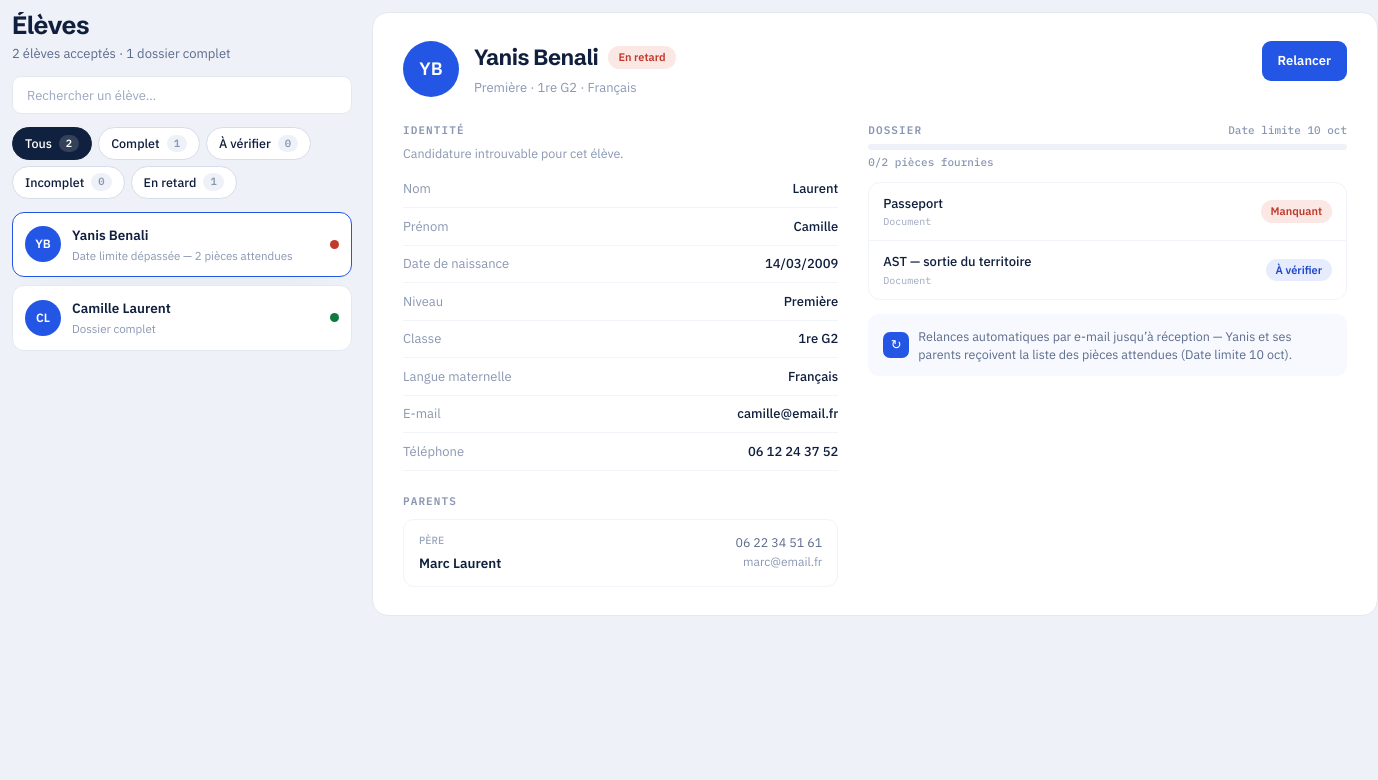
Test: StudentsView › cooldown result shows the skipped message
What coordinates should you click on to do the following:
click the button "Relancer"
I would click on:
 (1304, 61)
Its box is [1262,41,1347,80].
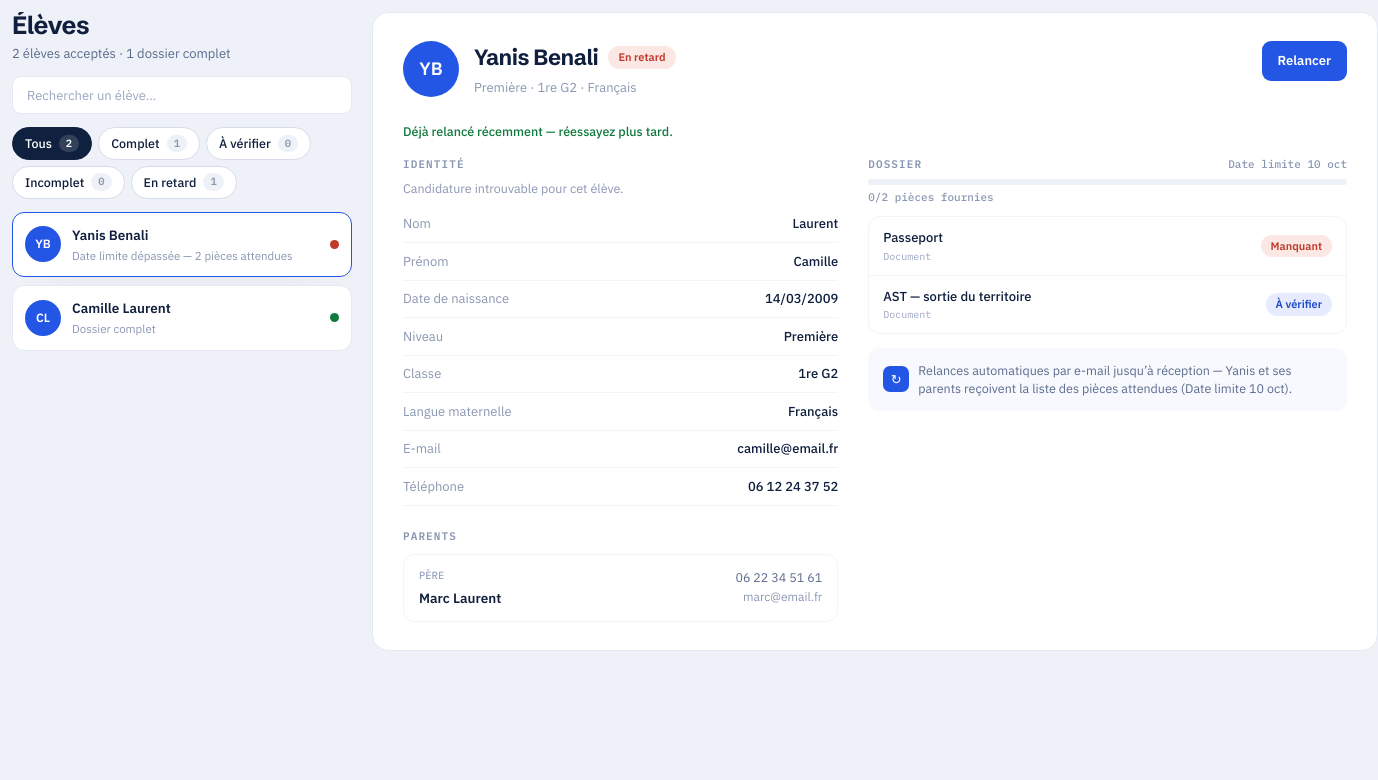
expect the text "Déjà relancé récemment — réessayez plus tard." is shown: met, box [403,122,673,138]
